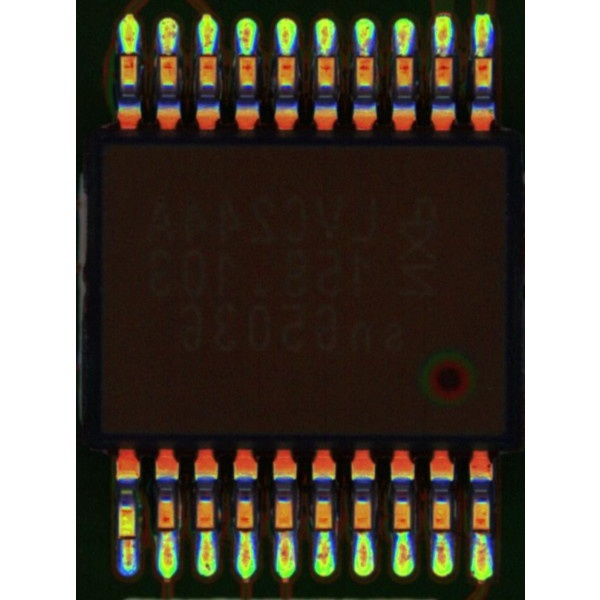Bad_podu: (123, 525, 132, 551)
